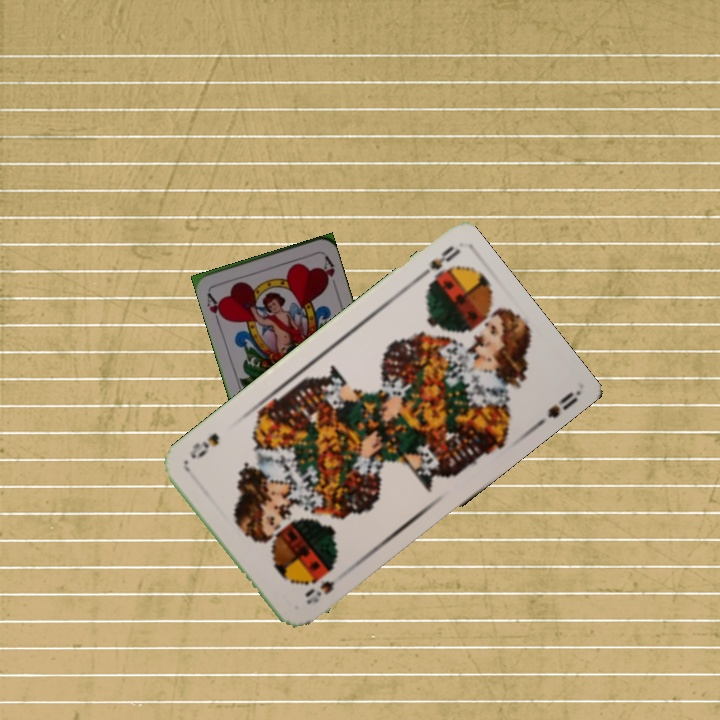HA: (203, 286, 228, 326)
SO: (409, 241, 463, 285), (301, 563, 338, 607)
